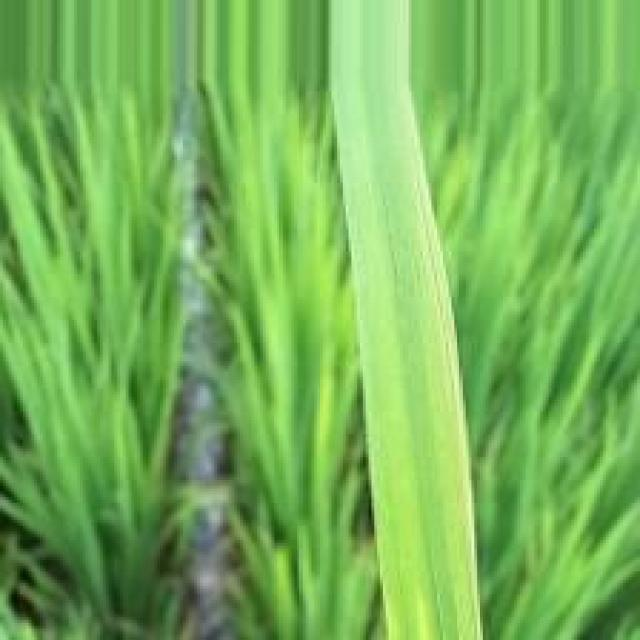HealthyLeaf: (331, 3, 485, 640)
